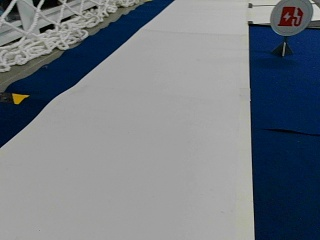battery: (268, 0, 313, 36)
